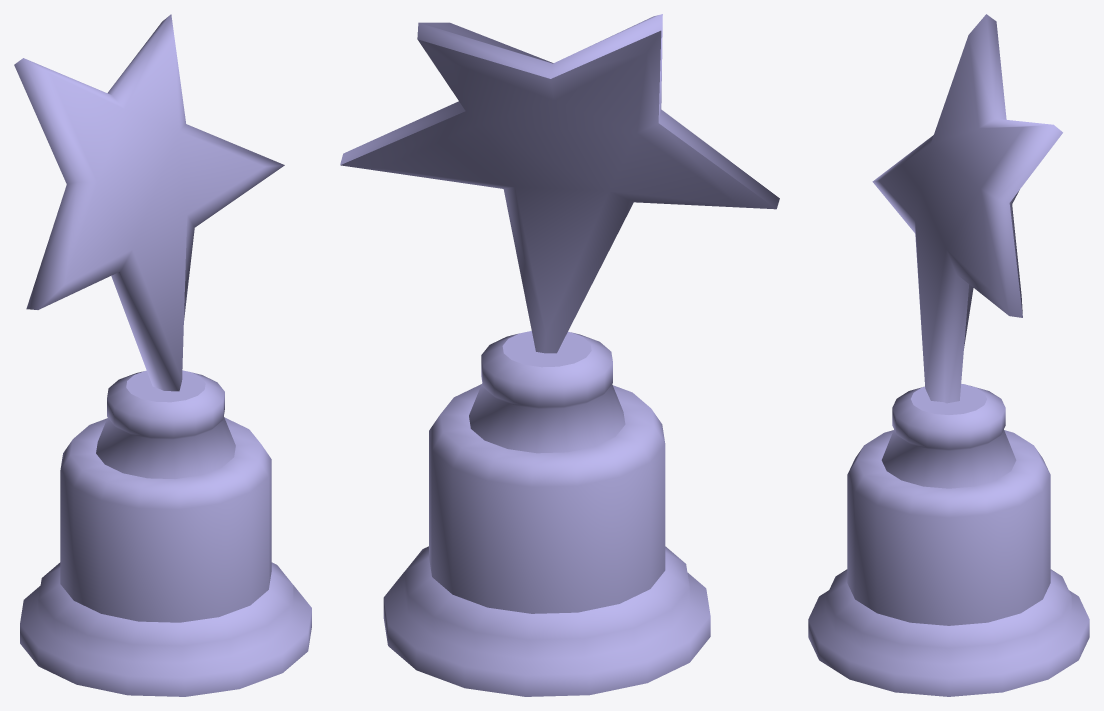
The model's file is Cup_03.fbx.
The picture shows the model from 3 angles, left to right: view 1: azimuth 30°, elevation 25°; view 2: azimuth 150°, elevation 25°; view 3: azimuth 270°, elevation 25°; orthographic projection. The views are drawn at different scales.
Parts seen in each view (by area): view 1: Cup_03; view 2: Cup_03; view 3: Cup_03.
Part boxes in pixels (x1=…): Cup_03: x1=14, y1=14, x2=311, y2=696; Cup_03: x1=340, y1=14, x2=779, y2=696; Cup_03: x1=808, y1=14, x2=1089, y2=696.
Bounding box in the file's own units: 20.5 × 35.95 × 16.18.
